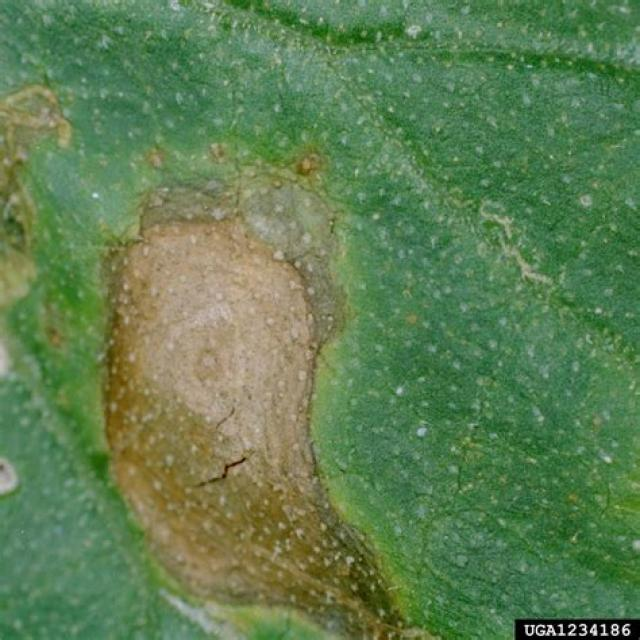blight: (27, 64, 469, 640)
